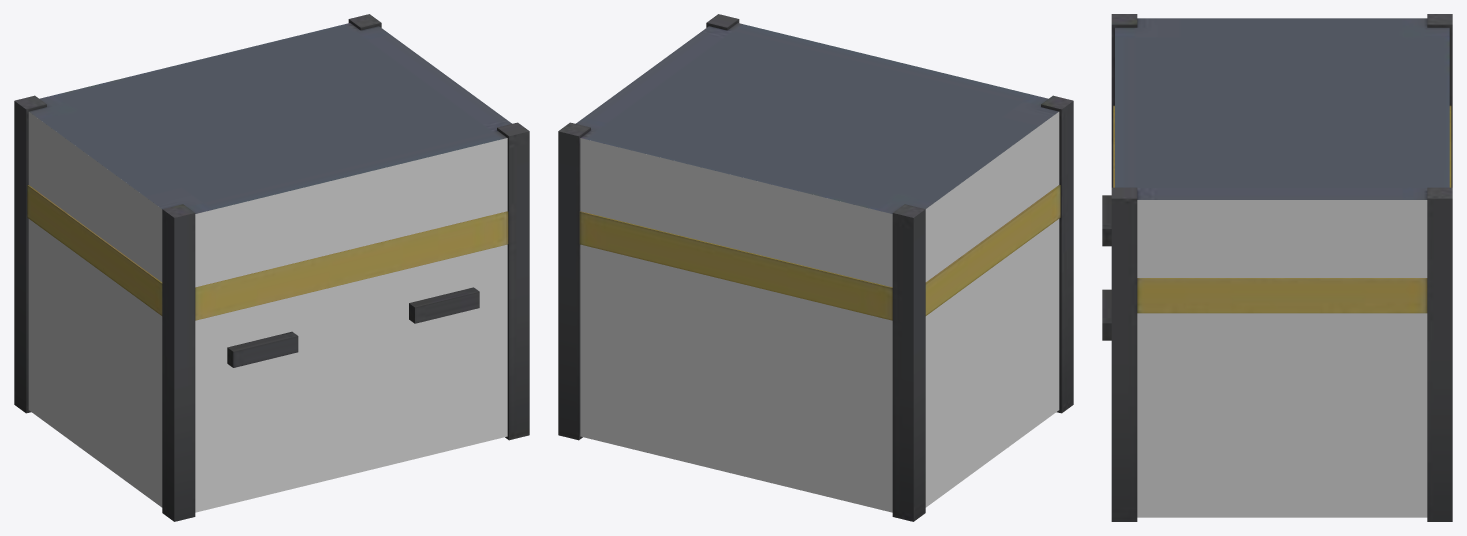
File: road_case.glb
3 renders of one model, left to right at view 1: azimuth 30°, elevation 25°; view 2: azimuth 150°, elevation 25°; view 3: azimuth 270°, elevation 25°, orthographic. The views are drawn at different scales.
Parts seen in each view (by area): view 1: COL_Body, RoadCase; view 2: COL_Body, RoadCase; view 3: RoadCase, COL_Body.
Part boxes in pixels (box(x1,y1,x2,y2)): COL_Body: box(28, 112, 507, 512); RoadCase: box(14, 14, 529, 521); COL_Body: box(580, 112, 1059, 512); RoadCase: box(558, 14, 1073, 521); RoadCase: box(1102, 14, 1452, 521); COL_Body: box(1137, 200, 1427, 517).
Size of the model in its own units: 1.37 by 1.12 by 1.1.
Materials: 3 (3 with a texture image).
